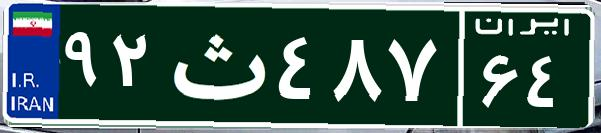2: (110, 28, 158, 105)
4: (273, 28, 330, 110), (525, 38, 570, 115)
6: (475, 38, 525, 113)
7: (385, 28, 445, 110)
8: (330, 28, 385, 110)
9: (57, 26, 110, 107)
ث: (158, 15, 273, 115)
